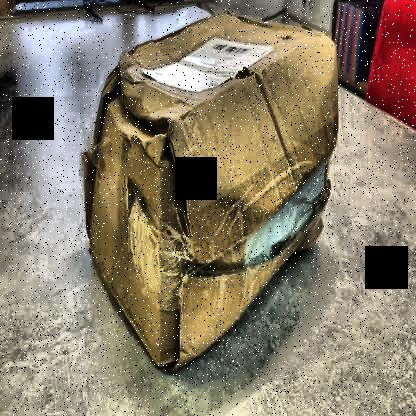defect parcel: (28, 41, 246, 243)
